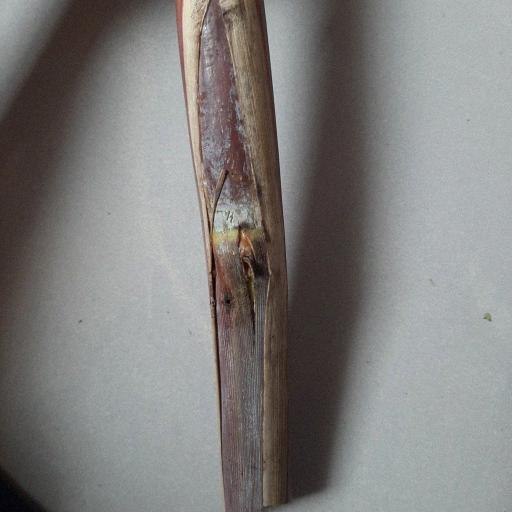Damage_Bud: (236, 228, 258, 289)
